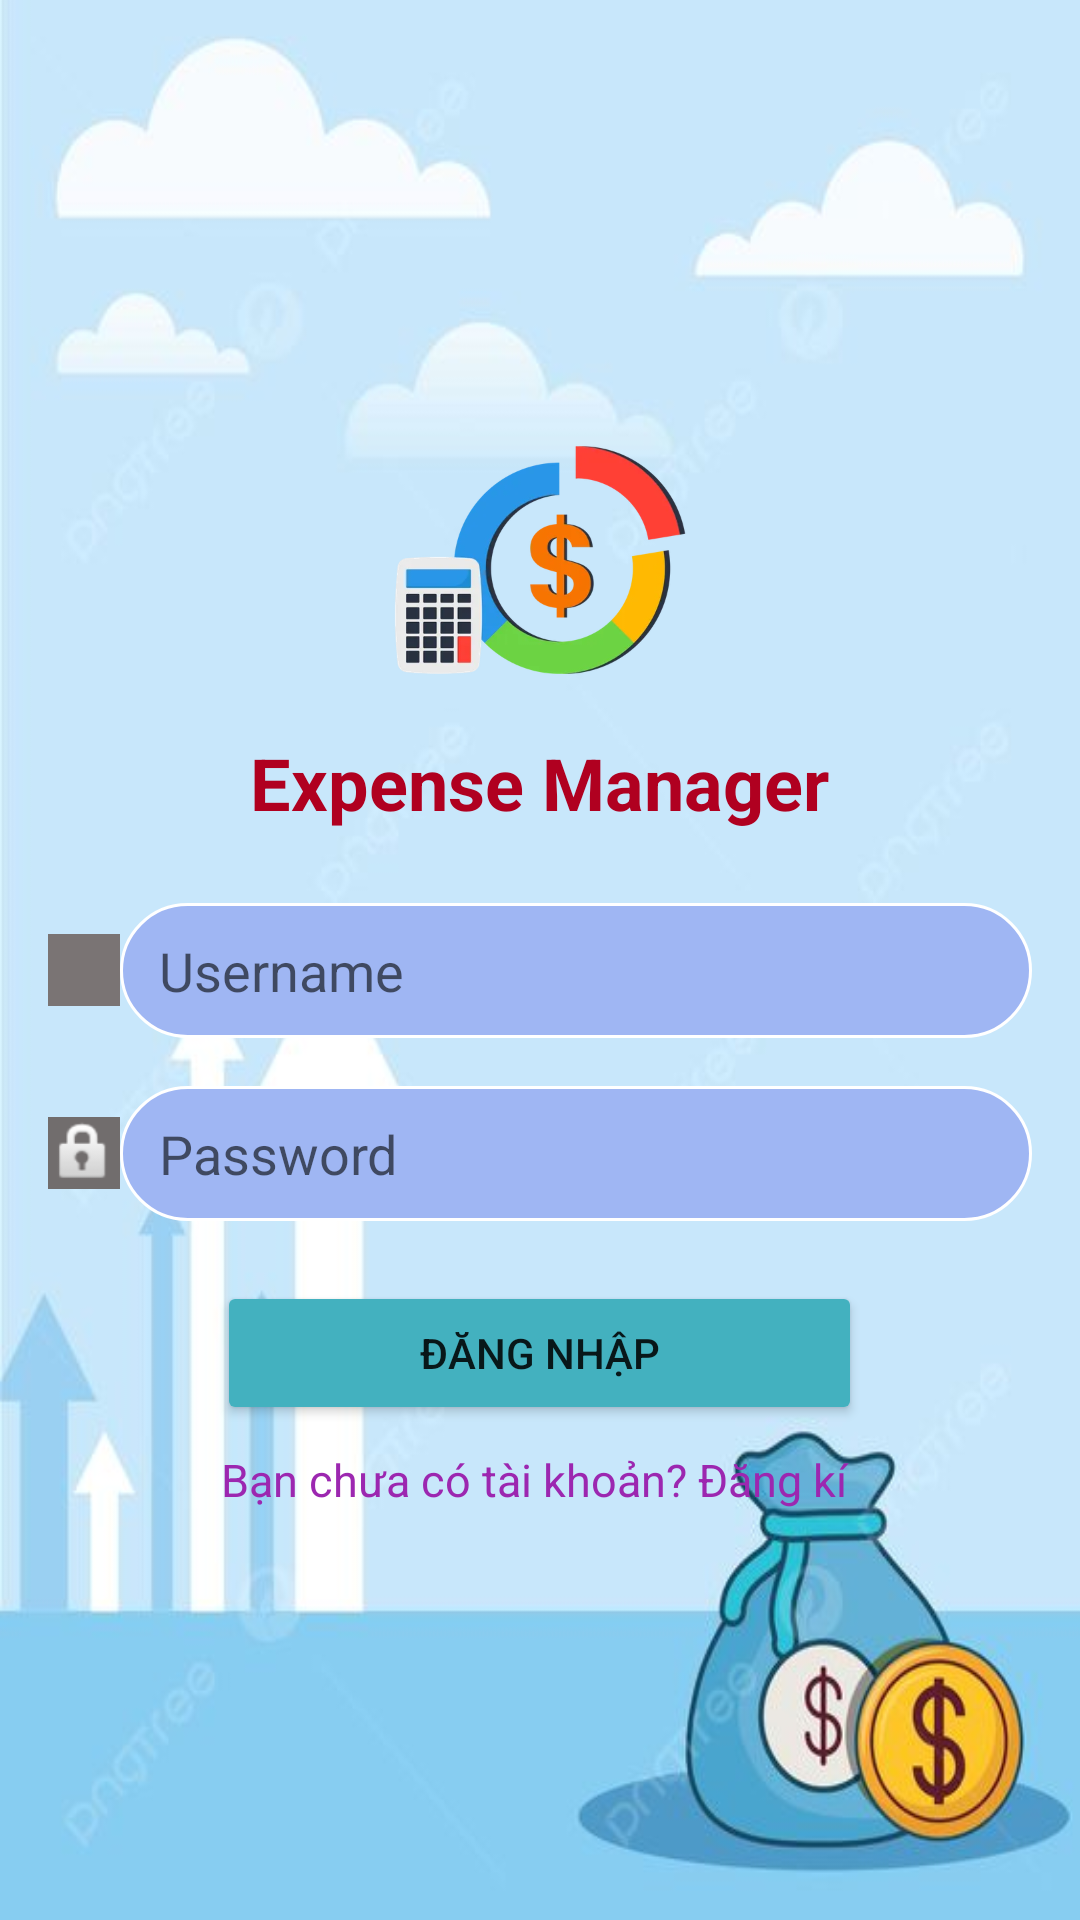

Locate icon controls on the screen. Image size 1080×1920, boxes as (x1, y1, x2, y2).
lock idle: (48, 1117, 120, 1189)
